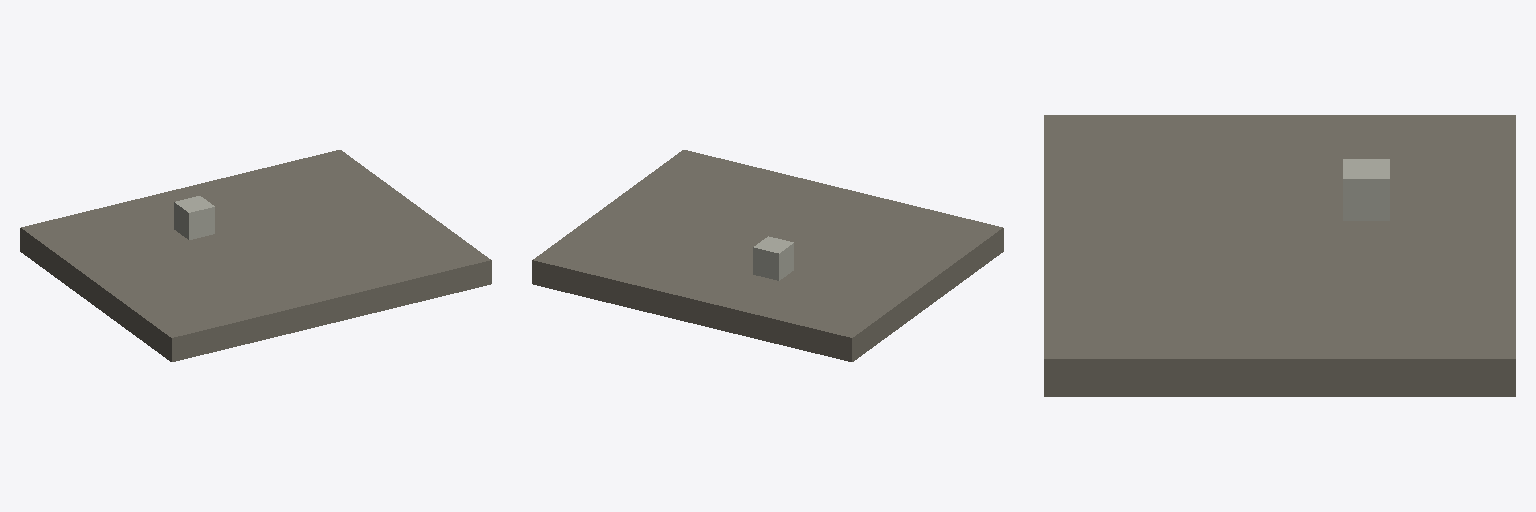
The robot description file, URDF, robot "parttoolgen_hammer_single_cube":
<?xml version="1.0"?>
<robot name="parttoolgen_hammer_single_cube">
  <link name="table_with_target_cube">
    <visual>
      <material name="wood">
        <color rgba="0.52 0.50 0.46 1.0"/>
      </material>
      <origin xyz="0 0 0"/>
      <geometry>
        <box size="0.55 0.45 0.04"/>
      </geometry>
    </visual>
    <collision>
      <origin xyz="0 0 0"/>
      <geometry>
        <box size="0.55 0.45 0.04"/>
      </geometry>
    </collision>

    <visual>
      <material name="target_cube">
        <color rgba="0.72 0.72 0.68 1.0"/>
      </material>
      <origin xyz="-0.05770921470660993 0.08271468019925377 0.042499999999999996"/>
      <geometry>
        <box size="0.045 0.045 0.045"/>
      </geometry>
    </visual>
    <collision>
      <origin xyz="-0.05770921470660993 0.08271468019925377 0.042499999999999996"/>
      <geometry>
        <box size="0.045 0.045 0.045"/>
      </geometry>
    </collision>

    <inertial>
      <mass value="500"/>
      <friction value="1.0"/>
      <inertia ixx="1000.0" ixy="0.0" ixz="0.0" iyy="1000.0" iyz="0.0" izz="1000.0"/>
    </inertial>
  </link>
</robot>

--- What the picture shows (computed from the rendered views, not written in the file) ---
3 views of the same robot in one strip: view 1: azimuth 30°, elevation 25°; view 2: azimuth 150°, elevation 25°; view 3: azimuth 270°, elevation 25° (orthographic).
Robot: parttoolgen_hammer_single_cube — 1 links, 0 joints (none); root link table_with_target_cube; default pose: all joints at 0.
Links seen in each view (by area): view 1: table_with_target_cube; view 2: table_with_target_cube; view 3: table_with_target_cube.
Link boxes in pixels (x1,y1,x2,y2): table_with_target_cube: (20, 150, 491, 361); table_with_target_cube: (532, 150, 1003, 361); table_with_target_cube: (1044, 115, 1515, 396).
Size in the robot's own frame: 0.55 by 0.45 by 0.085 metres.
Geometry: primitives only (box / cylinder / sphere), no mesh files.
